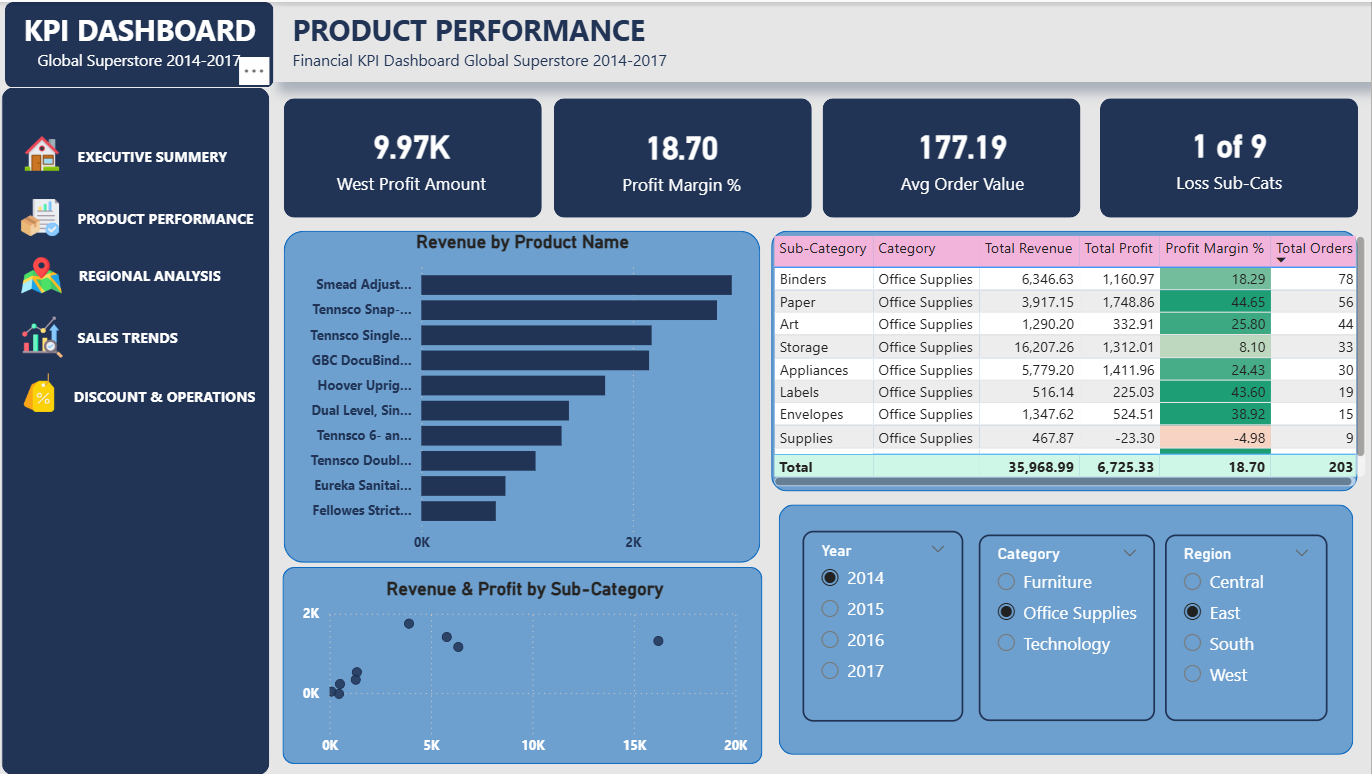

The dashboard page shown, as its layout file describes it:
{"tool":"powerbi","page":{"name":"Product Performance","canvas":[1280,720],"ordinal":1},"visuals":[{"type":"shape","box":[9.6,0,249.7,79.6],"z":0},{"type":"shape","box":[6,79.6,249.7,640.6],"z":1000},{"type":"shape","box":[259.4,3.6,1020.6,71.2],"z":2000},{"type":"shape","box":[269,89.2,240.1,111.1],"z":3000},{"type":"shape","box":[520.1,89.2,240.1,111.1],"z":4000},{"type":"shape","box":[769.8,89.2,240.1,111.1],"z":5000},{"type":"shape","box":[1027.8,89.2,240.1,111.1],"z":6000},{"type":"shape","box":[269,212.7,443.2,308.7],"z":7000},{"type":"shape","box":[722.7,212.3,545.3,242.5],"z":8000},{"type":"clusteredBarChart","title":" Revenue by Product Name","fields":{"Category":["superstore_clean.Product Name"],"Y":["superstore_clean.Total Revenue"]},"box":[276.3,212.3,428.3,308.8],"z":9000},{"type":"shape","box":[267.8,526,446.4,183.4],"z":10000},{"type":"tableEx","fields":{"Values":["superstore_clean.Sub-Category","superstore_clean.Category","superstore_clean.Total Revenue","superstore_clean.Total Profit","superstore_clean.Profit Margin %","superstore_clean.Total Orders"]},"box":[719,212.3,561,242.5],"z":11000},{"type":"scatterChart","title":"Revenue & Profit by Sub-Category","fields":{"X":["superstore_clean.Total Revenue"],"Y":["superstore_clean.Total Profit"],"Category":["superstore_clean.Sub-Category"]},"box":[281.1,535.7,423.5,173.7],"z":12000},{"type":"card","fields":{"Values":["superstore_clean.Avg Order Value"]},"box":[791.2,102.7,218.9,84.4],"z":13000},{"type":"card","fields":{"Values":["DateTable.Loss Sub-Cats"]},"box":[1039.4,100.3,217.7,86.8],"z":14000},{"type":"card","fields":{"Values":["DateTable.West Profit Amount"]},"box":[299.2,92.9,177.3,102.5],"z":15000},{"type":"card","fields":{"Values":["superstore_clean.Profit Margin %"]},"box":[539.3,95.3,199.1,100.1],"z":16000},{"type":"shape","box":[276.3,3.6,435.5,43.4],"z":17000},{"type":"shape","box":[39.8,39.8,199.1,27.7],"z":18000},{"type":"shape","box":[26.5,3.6,229.2,43.4],"z":19000},{"type":"shape","box":[276.3,39.8,375.2,27.7],"z":20000},{"type":"shape","box":[77.2,121.9,190.6,43.4],"z":21000},{"type":"shape","box":[77.2,178.6,190.6,43.4],"z":22000},{"type":"shape","box":[78.4,232.8,190.6,43.4],"z":23000},{"type":"shape","box":[77.2,289.5,199.1,44.6],"z":24000},{"type":"shape","box":[73.6,345,190.6,43.4],"z":25000},{"type":"shape","box":[728.7,466.9,534.5,232.8],"z":26000},{"type":"slicer","fields":{"Values":["DateTable.Year"]},"box":[751.6,492.2,149.6,177.3],"z":27000},{"type":"slicer","fields":{"Values":["superstore_clean.Region"]},"box":[1088.2,495.8,150.8,173.7],"z":28000},{"type":"slicer","fields":{"Values":["superstore_clean.Category"]},"box":[915.7,495.8,164.1,173.7],"z":29000},{"type":"image","box":[21.7,124.3,43.4,32.6],"z":30000},{"type":"image","box":[22.9,181,37.4,38.6],"z":31000},{"type":"image","box":[24.1,234,37.4,41],"z":32000},{"type":"image","box":[18.1,292,50.7,39.8],"z":33000},{"type":"image","box":[20.5,345,39.8,36.2],"z":34000}]}

Visuals, with their boxes in screenshot pixels (x1, y1, x2, y2), scaled from the page's 1280x720 canvas onto the 1372x774 screenshot:
shape: x1=10 y1=0 x2=278 y2=86
shape: x1=6 y1=86 x2=274 y2=773
shape: x1=278 y1=4 x2=1371 y2=80
shape: x1=288 y1=96 x2=546 y2=215
shape: x1=557 y1=96 x2=815 y2=215
shape: x1=825 y1=96 x2=1082 y2=215
shape: x1=1102 y1=96 x2=1359 y2=215
shape: x1=288 y1=229 x2=763 y2=561
shape: x1=775 y1=228 x2=1359 y2=489
" Revenue by Product Name" clusteredBarChart: x1=296 y1=228 x2=755 y2=560
shape: x1=287 y1=565 x2=766 y2=763
tableEx - superstore_clean.Sub-Category x superstore_clean.Category: x1=771 y1=228 x2=1371 y2=489
"Revenue & Profit by Sub-Category" scatterChart: x1=301 y1=576 x2=755 y2=763
card - superstore_clean.Avg Order Value: x1=848 y1=110 x2=1083 y2=201
card - DateTable.Loss Sub-Cats: x1=1114 y1=108 x2=1347 y2=201
card - DateTable.West Profit Amount: x1=321 y1=100 x2=511 y2=210
card - superstore_clean.Profit Margin %: x1=578 y1=102 x2=791 y2=210
shape: x1=296 y1=4 x2=763 y2=51
shape: x1=43 y1=43 x2=256 y2=73
shape: x1=28 y1=4 x2=274 y2=51
shape: x1=296 y1=43 x2=698 y2=73
shape: x1=83 y1=131 x2=287 y2=178
shape: x1=83 y1=192 x2=287 y2=239
shape: x1=84 y1=250 x2=288 y2=297
shape: x1=83 y1=311 x2=296 y2=359
shape: x1=79 y1=371 x2=283 y2=418
shape: x1=781 y1=502 x2=1354 y2=752
slicer - DateTable.Year: x1=806 y1=529 x2=966 y2=720
slicer - superstore_clean.Region: x1=1166 y1=533 x2=1328 y2=720
slicer - superstore_clean.Category: x1=982 y1=533 x2=1157 y2=720
image: x1=23 y1=134 x2=70 y2=169
image: x1=25 y1=195 x2=65 y2=236
image: x1=26 y1=252 x2=66 y2=296
image: x1=19 y1=314 x2=74 y2=357
image: x1=22 y1=371 x2=65 y2=410
